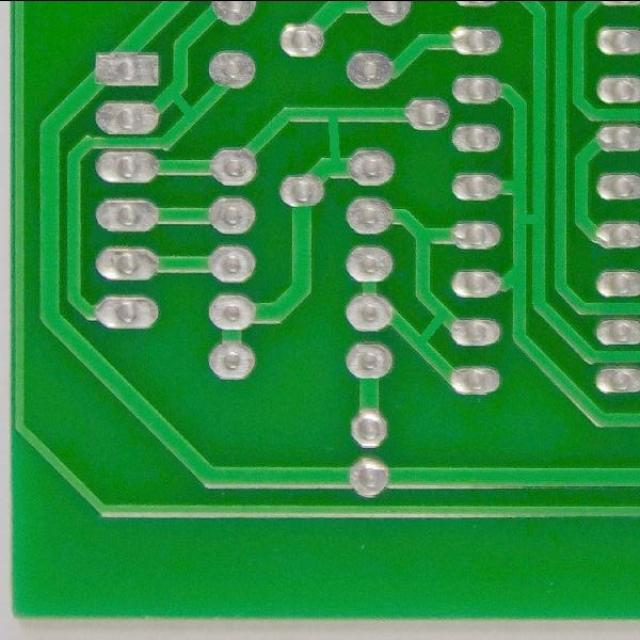Short_Circuit: (315, 100, 353, 177), (408, 304, 452, 353), (162, 82, 205, 127), (509, 200, 551, 238)
